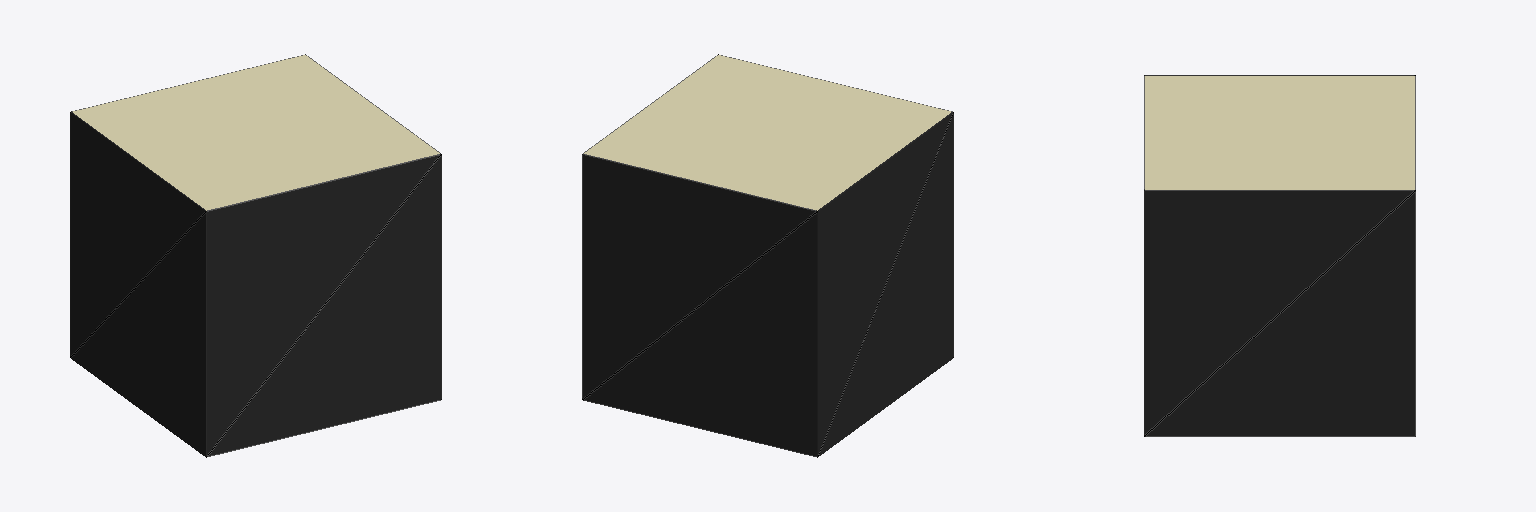
The picture shows the model from 3 angles: view 1: azimuth 30°, elevation 25°; view 2: azimuth 150°, elevation 25°; view 3: azimuth 270°, elevation 25°; orthographic projection.
Parts seen in each view (by area): view 1: Cube; view 2: Cube; view 3: Cube.
Boxes of the visible parts, box(x1,y1,x2,y2) form: Cube: box(70, 54, 441, 457); Cube: box(582, 54, 953, 457); Cube: box(1144, 75, 1415, 436).
Size of the model in its own units: 2 by 2 by 2.
Materials: 1 (1 with a texture image).